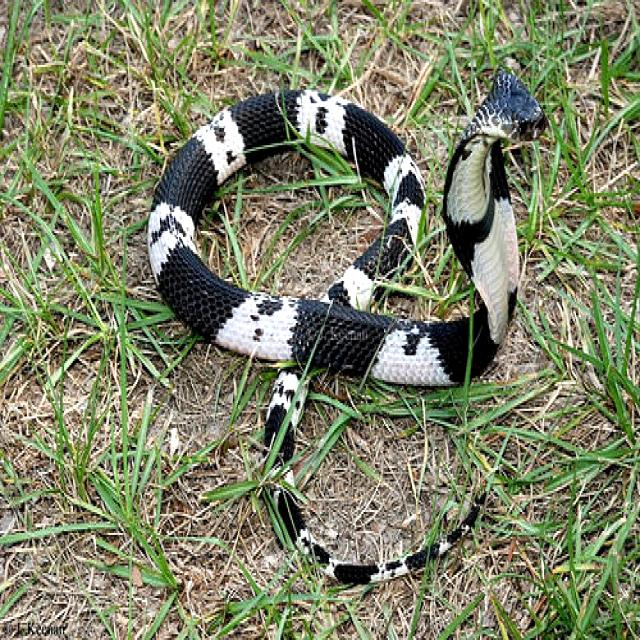Naja siamensis: (149, 69, 546, 385)
snake: (149, 69, 546, 385)
